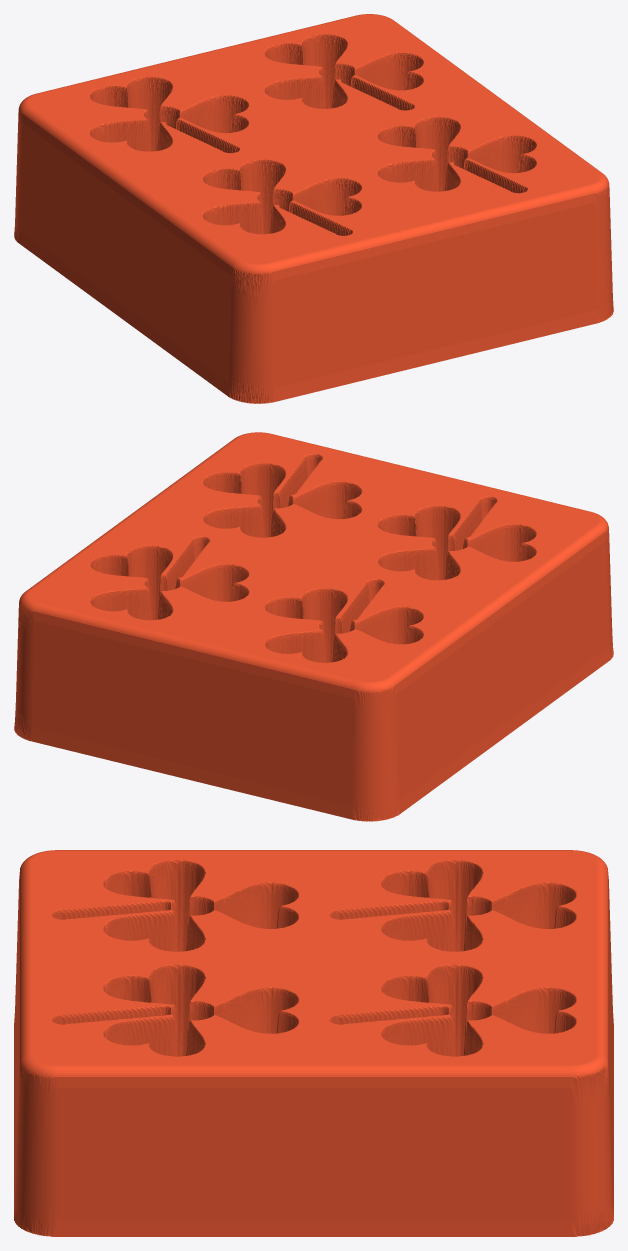
The model's file is mold.glb.
3 renders of one model, top to bottom at view 1: azimuth 30°, elevation 25°; view 2: azimuth 150°, elevation 25°; view 3: azimuth 270°, elevation 25°, orthographic. The views are drawn at different scales.
Parts seen in each view (by area): view 1: geometry_0; view 2: geometry_0; view 3: geometry_0.
Boxes of the visible parts, x1,y1,x2,y2 form: geometry_0: (14,14,613,403); geometry_0: (14,432,613,821); geometry_0: (14,850,613,1236).
Size of the model in its own units: 0.1125 by 0.0377 by 0.1248.
